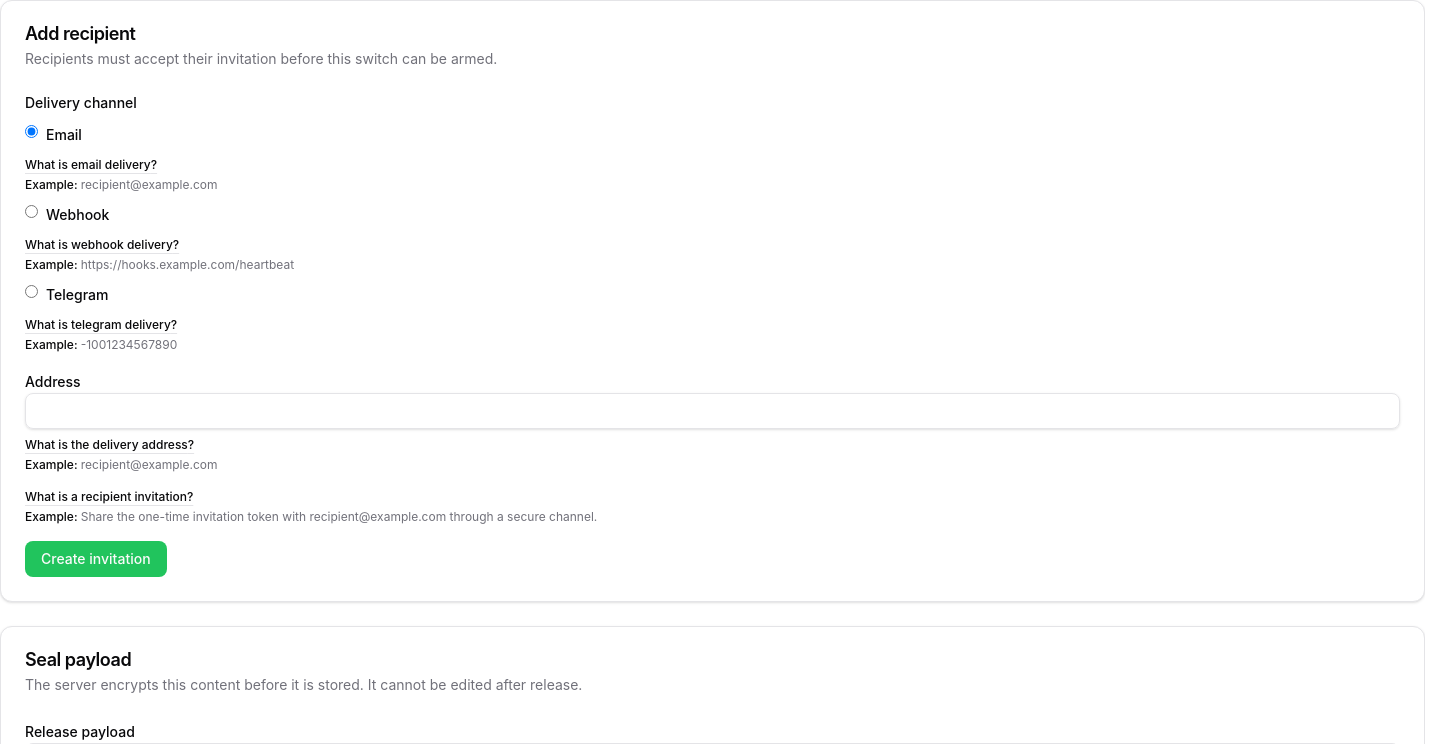
Scenario: SwitchSetup › keeps recipient invitations on the existing POST contract
Type "recipient@example.com" into the field labelled "Address".
click(712, 411); type("recipient@example.com")  # box x1=25 y1=393 x2=1400 y2=429
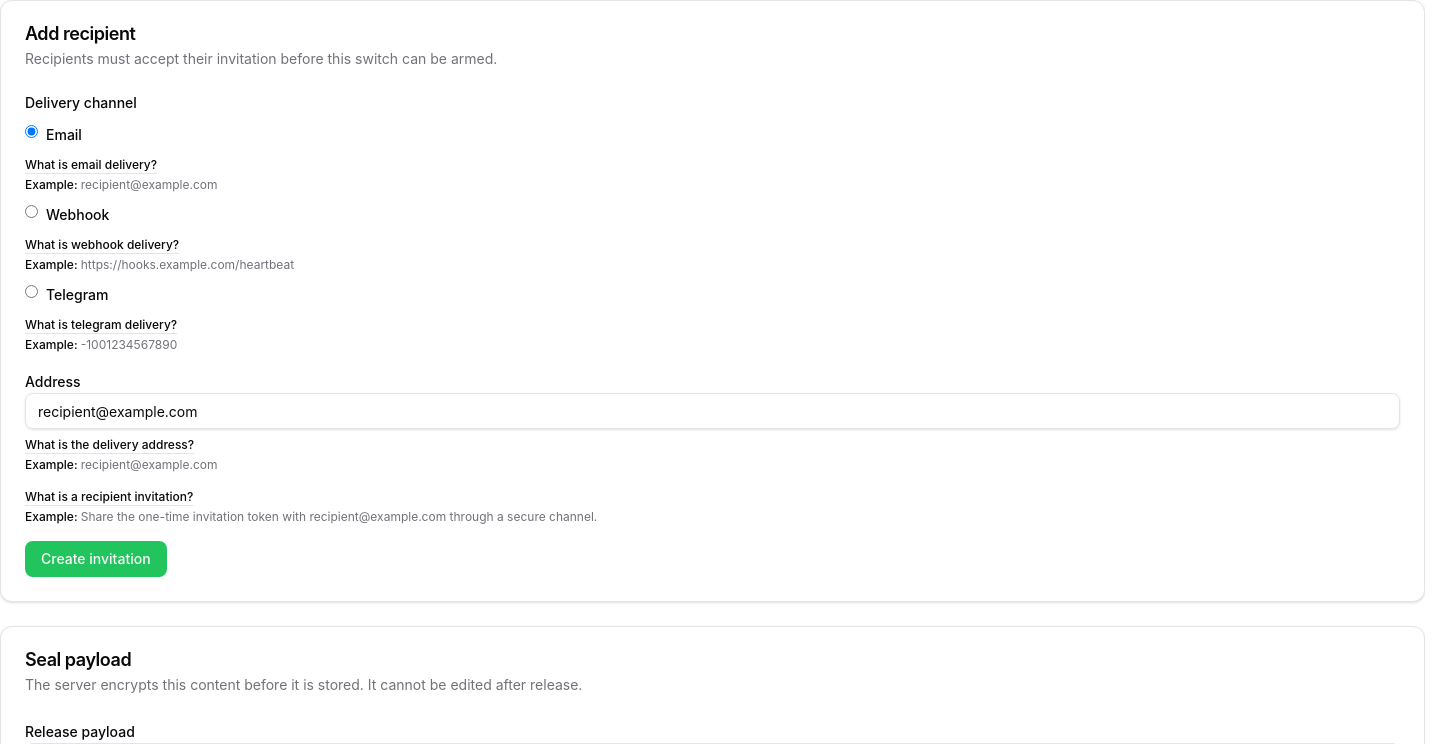
Click the button "Create invitation".
click(96, 559)  # box x1=25 y1=541 x2=167 y2=577
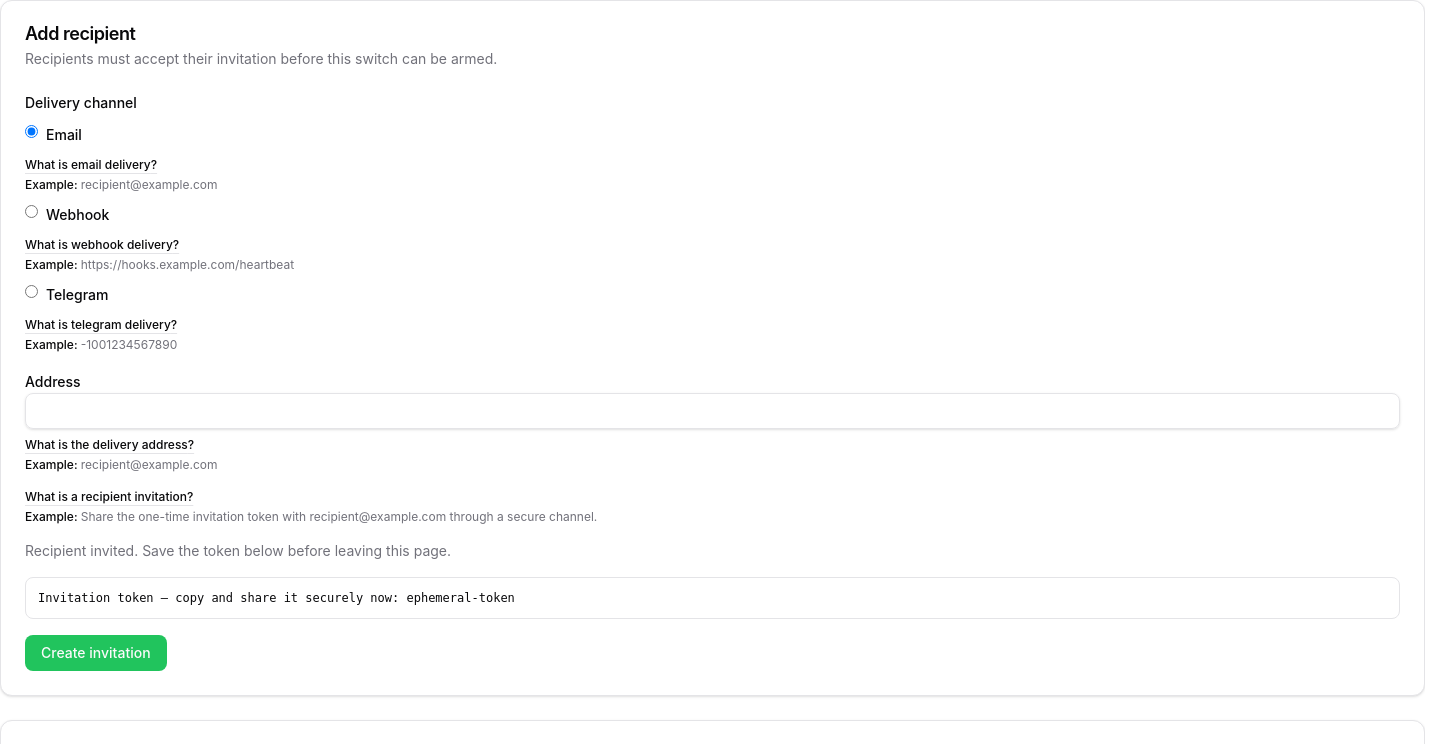
expect the text "Recipient invited. Save the token below before leaving this page." is shown: met, box x1=25 y1=542 x2=451 y2=559
